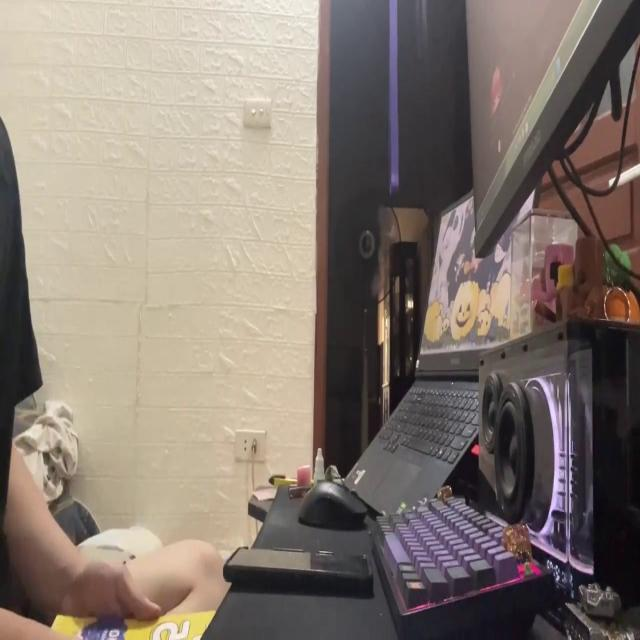book: (46, 603, 216, 640)
laptop: (346, 170, 538, 517), (463, 0, 640, 262)
phone: (220, 535, 374, 602)
student: (0, 121, 232, 640)
